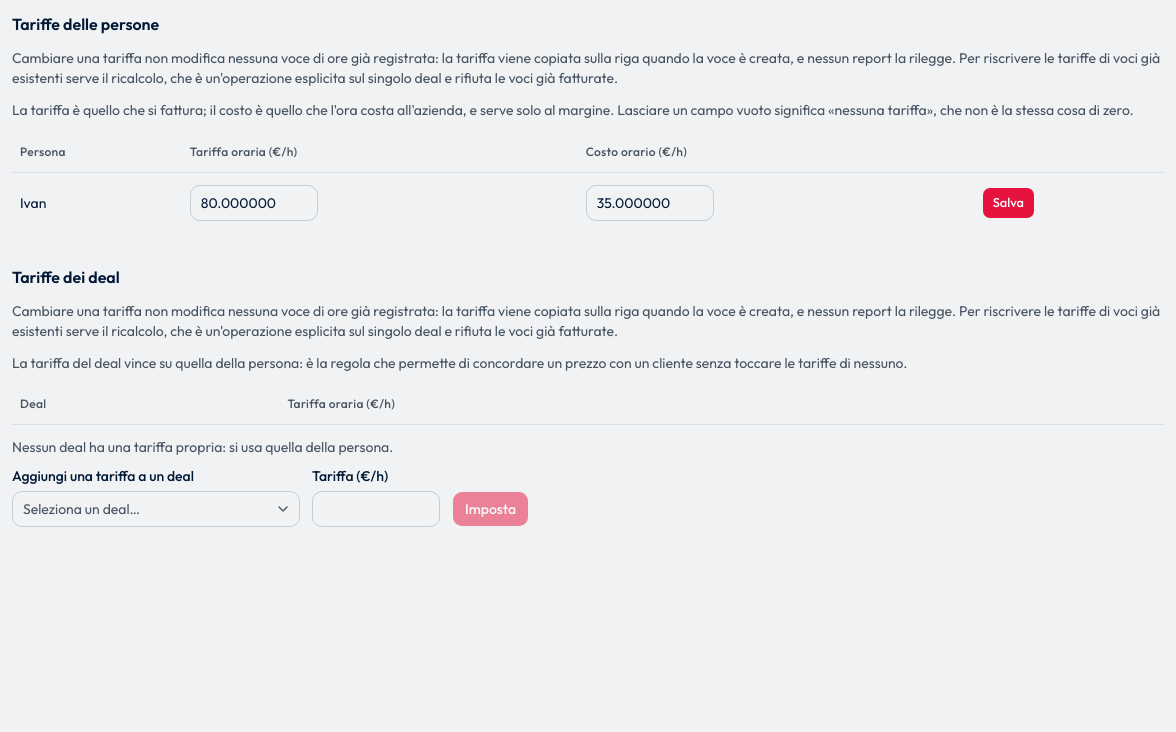
it: RatesPanel › puts a failure with no field on the page banner
Click the button "Salva".
click(1008, 202)  # box x1=982 y1=186 x2=1035 y2=218
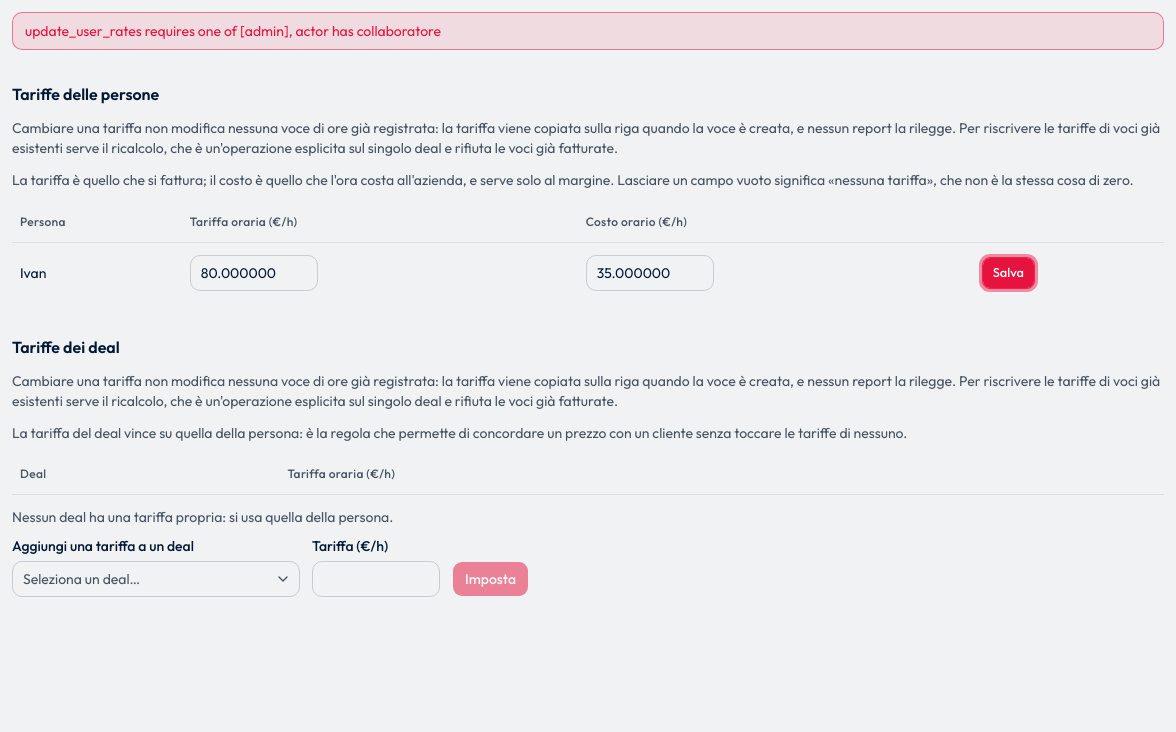
Now the message shows "requires one of [admin]", box x1=25 y1=22 x2=441 y2=40
